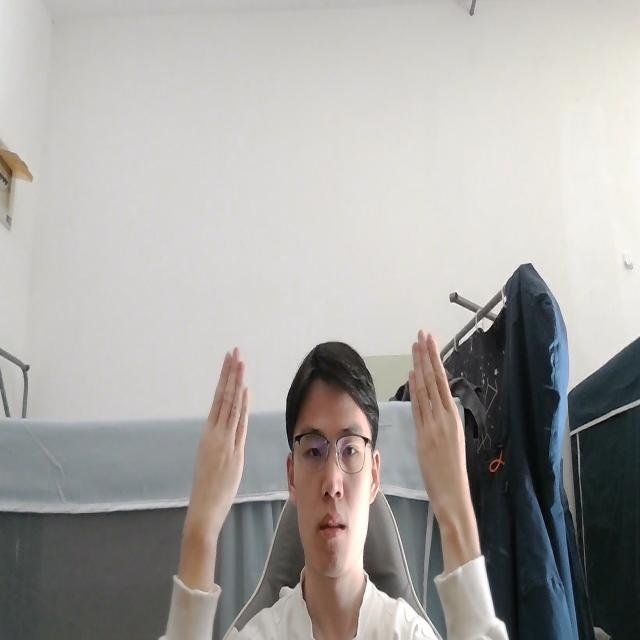four: (404, 321, 476, 533), (186, 340, 254, 535)
